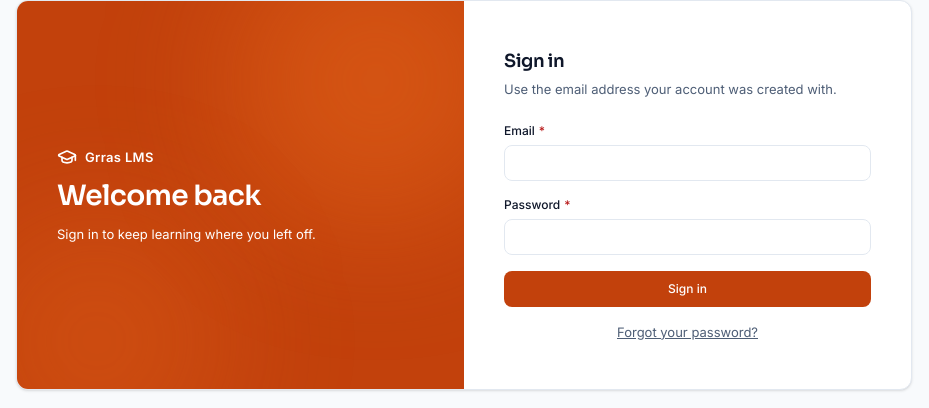
LoginPage › switches to the MFA-verify step instead of navigating away
Type "a@b.test" into the field labelled "Email".
click(688, 163); type("a@b.test")  # box [504, 145, 871, 181]
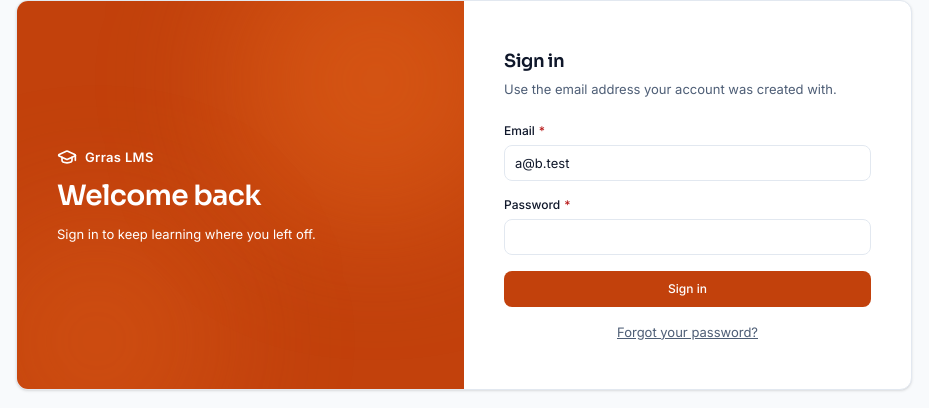
Type "correct-password" into the password field labelled "Password".
click(688, 237); type("correct-password")  # box [504, 219, 871, 255]
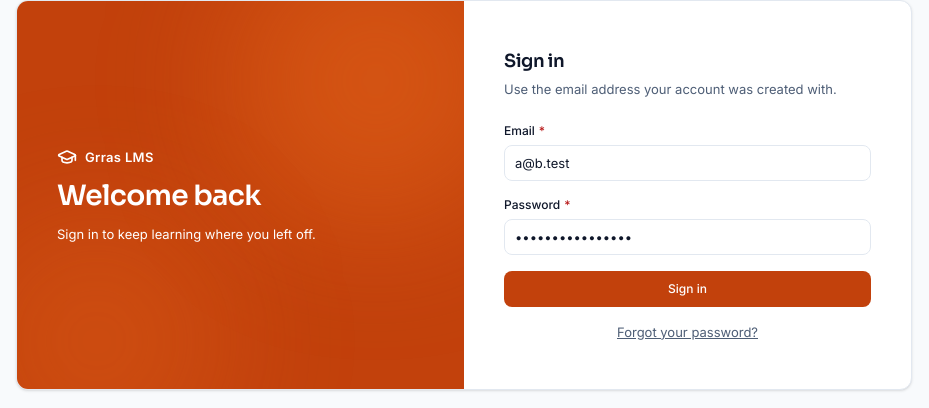
Click the button "Sign in".
click(688, 289)  # box [504, 271, 871, 307]
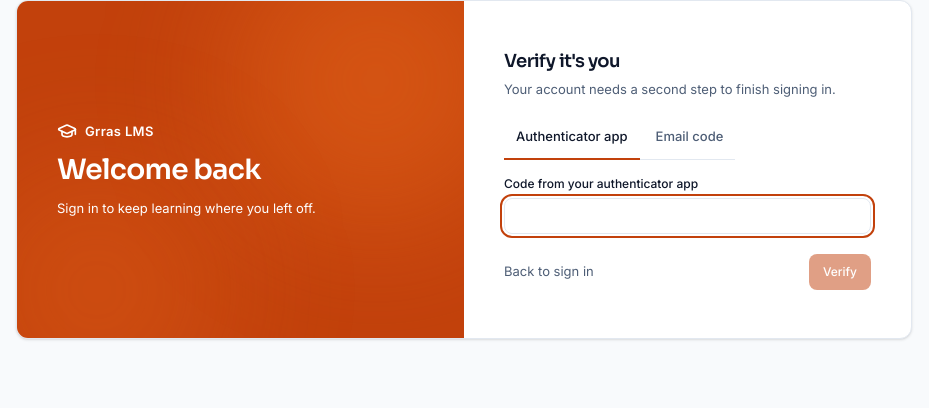
expect the heading "Verify it's you" is shown: met, box [504, 50, 620, 72]
expect the tab "Authenticator app" is shown: met, box [504, 115, 640, 159]
expect the tab "Email code" is shown: met, box [644, 115, 735, 159]
